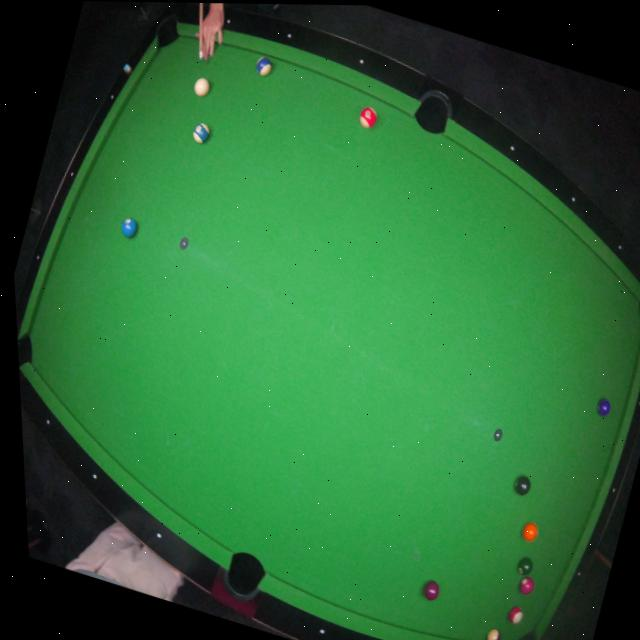cue ball: (190, 71, 212, 100)
other: (507, 468, 535, 500), (355, 102, 382, 132), (516, 517, 543, 546), (116, 211, 142, 241), (249, 51, 276, 79), (188, 118, 213, 147), (511, 553, 537, 580), (419, 574, 444, 602), (593, 392, 616, 422), (516, 574, 537, 597), (507, 604, 525, 625), (484, 626, 502, 640)
